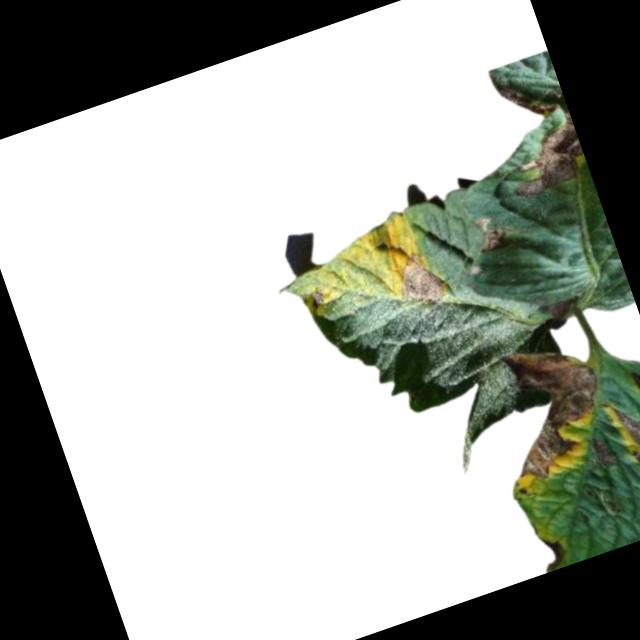Early_blight: (479, 325, 624, 491), (481, 67, 592, 203), (388, 245, 452, 314), (610, 392, 640, 461), (472, 212, 511, 254), (534, 532, 569, 573), (303, 283, 330, 312)
